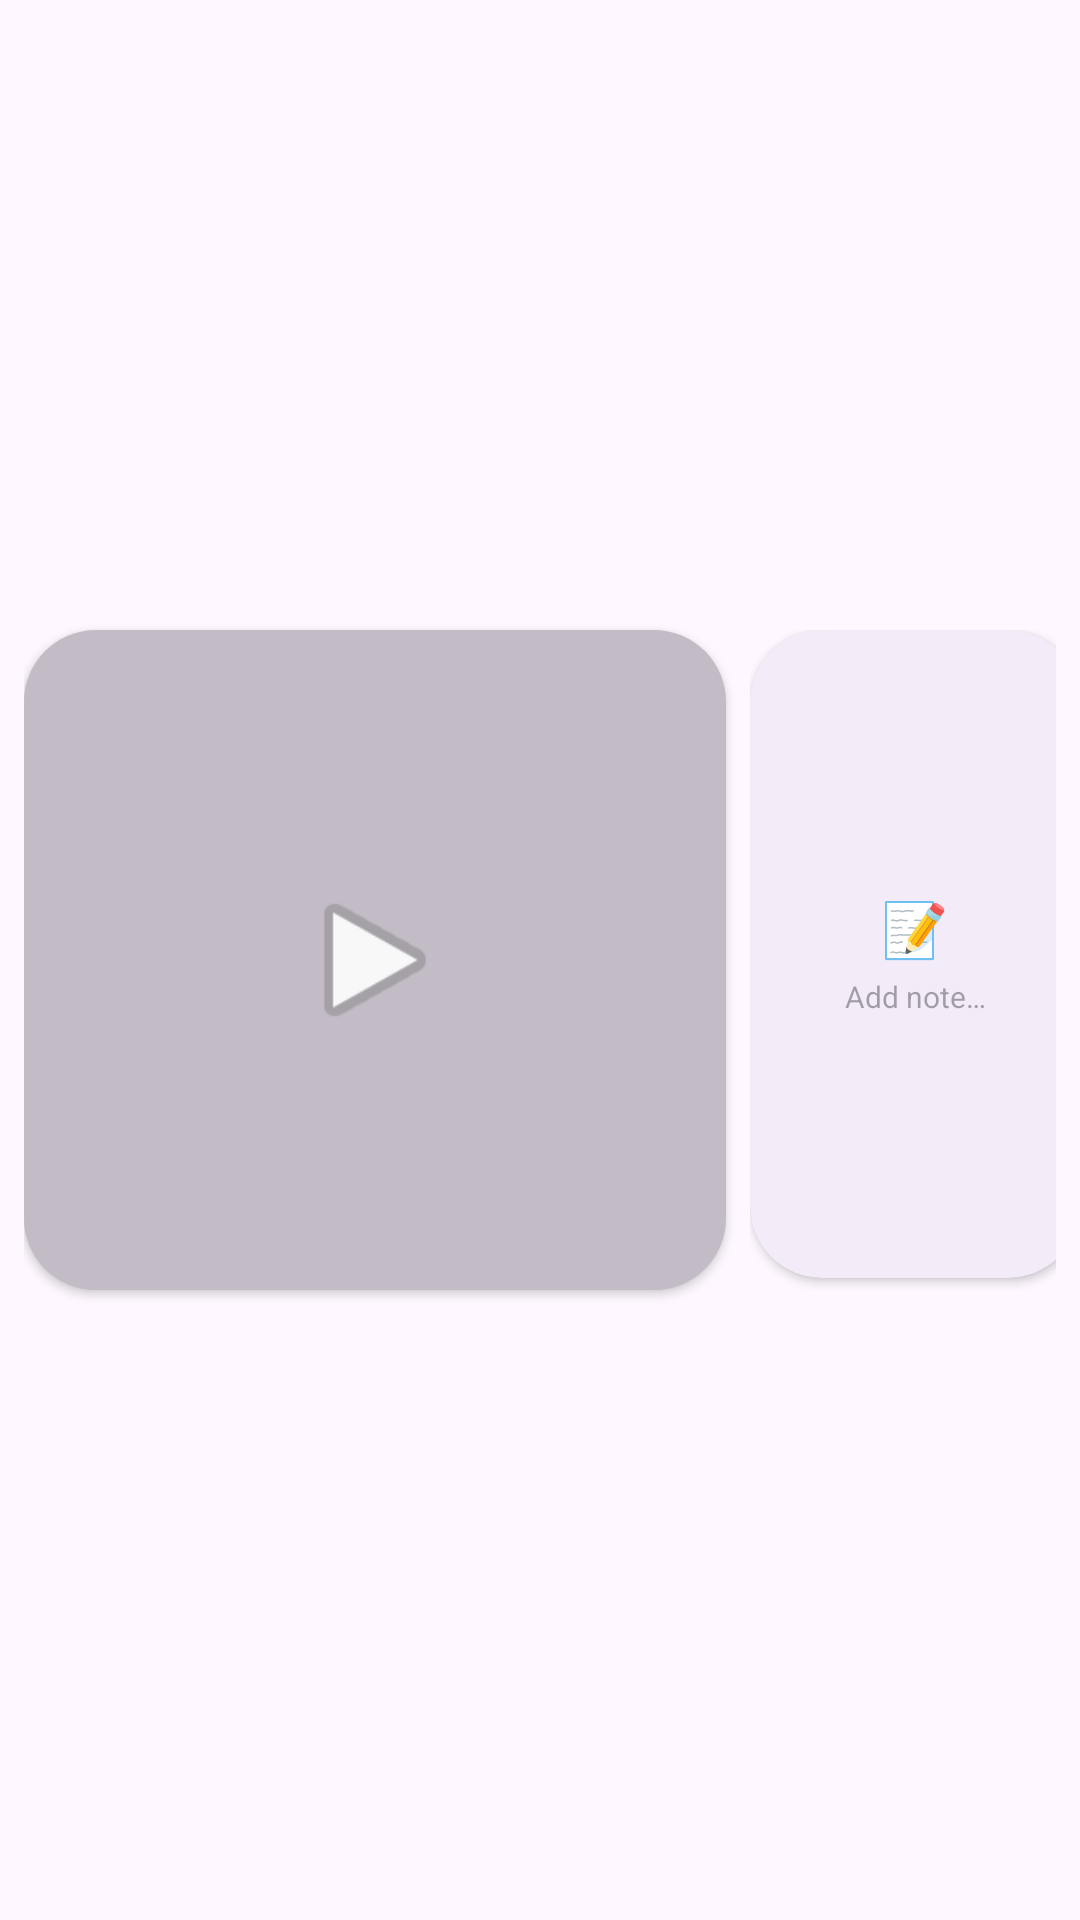

Where to tap for icons on this 1080px×1920px app screen, as (x=x, y=y):
play: (x=375, y=960)
